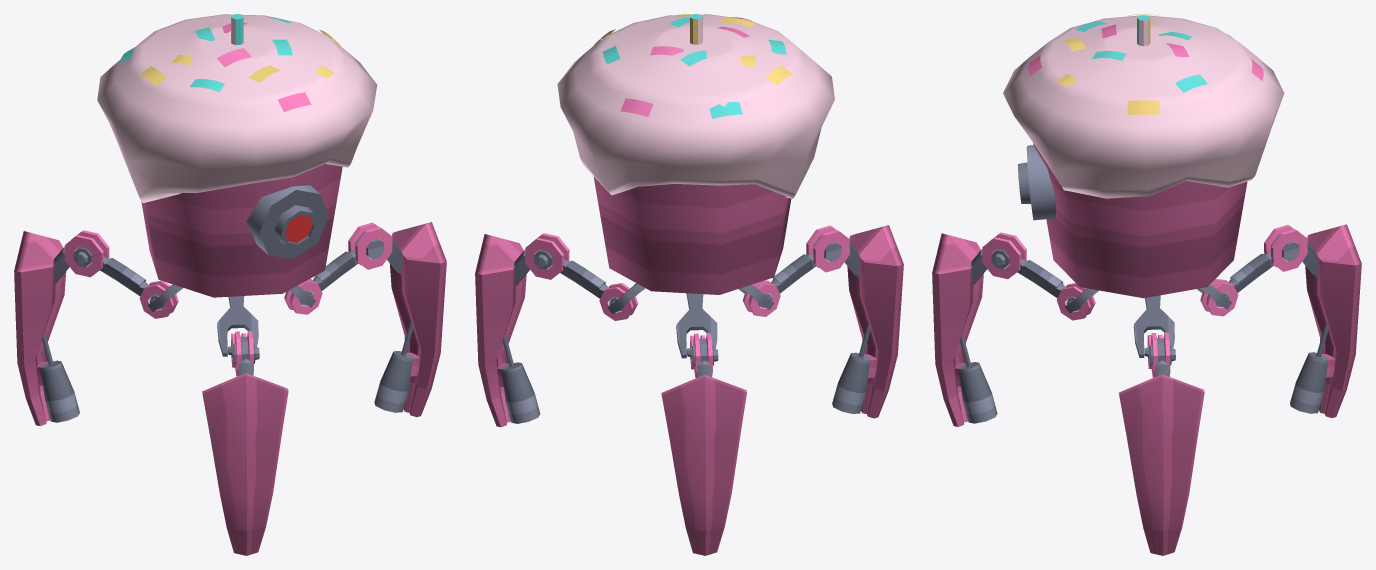
The model's file is CupcakeDrone_Asset_v02.fbx.
3 views of the same model, side by side, from view 1: azimuth 30°, elevation 25°; view 2: azimuth 150°, elevation 25°; view 3: azimuth 270°, elevation 25° (orthographic).
Parts seen in each view (by area): view 1: Topping, Legs, Base; view 2: Topping, Legs, Base; view 3: Topping, Legs, Base.
Part boxes in pixels (<box>): Topping: <box>97,14,377,202</box>; Legs: <box>14,222,446,555</box>; Base: <box>141,164,342,297</box>; Topping: <box>557,14,834,198</box>; Legs: <box>475,225,903,555</box>; Base: <box>593,176,791,294</box>; Topping: <box>1003,14,1284,198</box>; Legs: <box>932,224,1361,555</box>; Base: <box>1017,143,1247,298</box>.
Bounding box in the file's own units: 141 × 175 × 153.
1 material, 1 textured.
